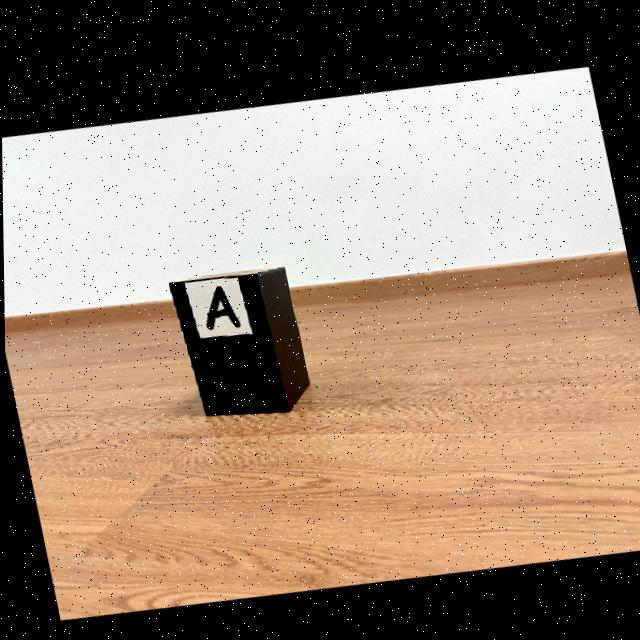A: (205, 283, 240, 326)
